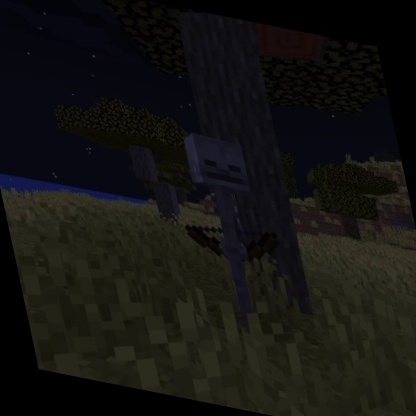skeleton: (158, 122, 304, 336)
